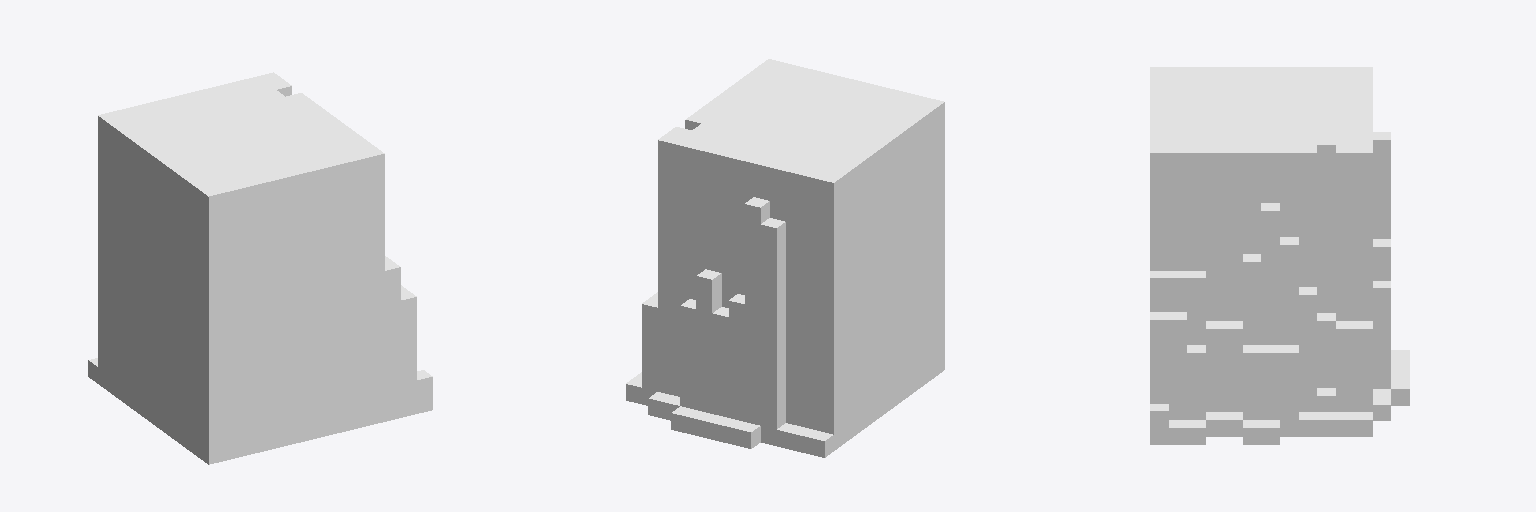
The model's file is stone3.obj.
3 views of the same model, side by side, from view 1: azimuth 30°, elevation 25°; view 2: azimuth 150°, elevation 25°; view 3: azimuth 270°, elevation 25° (orthographic).
Bounding box in the file's own units: 14 × 16 × 14.